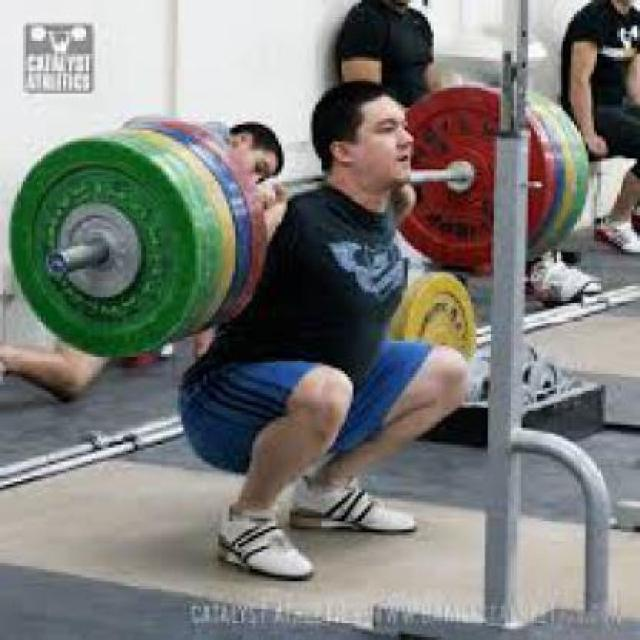barbell: (3, 135, 203, 364)
